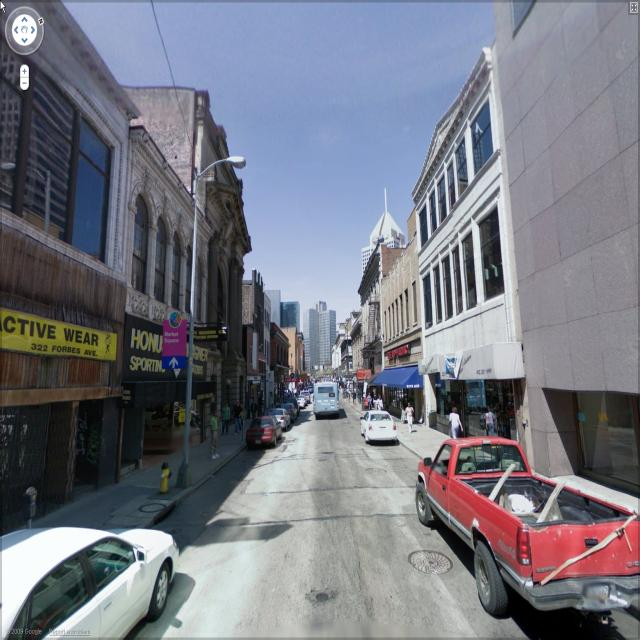b_1: (504, 12, 640, 499), (0, 11, 116, 467), (418, 77, 522, 451), (124, 160, 210, 469), (192, 117, 250, 432), (384, 220, 426, 400), (345, 201, 415, 303), (357, 245, 393, 403), (300, 294, 342, 400), (242, 277, 272, 424), (265, 321, 297, 415), (263, 286, 305, 335), (290, 326, 310, 399)
